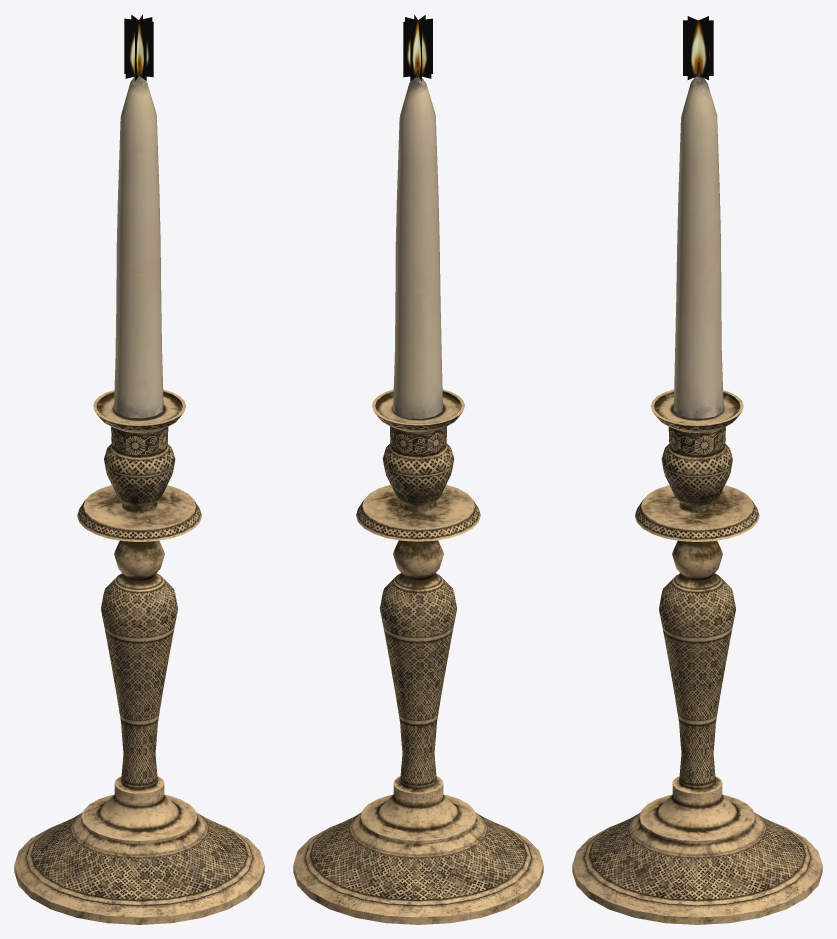
The model's file is candle.glb.
3 views of the same model, side by side, from view 1: azimuth 30°, elevation 25°; view 2: azimuth 150°, elevation 25°; view 3: azimuth 270°, elevation 25° (orthographic).
Visible parts, largest first — view 1: brass_candleholder_01; view 2: brass_candleholder_01; view 3: brass_candleholder_01.
Boxes of the visible parts, x1,y1,x2,y2 form: brass_candleholder_01: (14,14,264,924); brass_candleholder_01: (293,15,543,924); brass_candleholder_01: (572,16,822,924).
Size of the model in its own units: 0.0974 by 0.3655 by 0.0974.
Materials: 2 (2 with a texture image).
